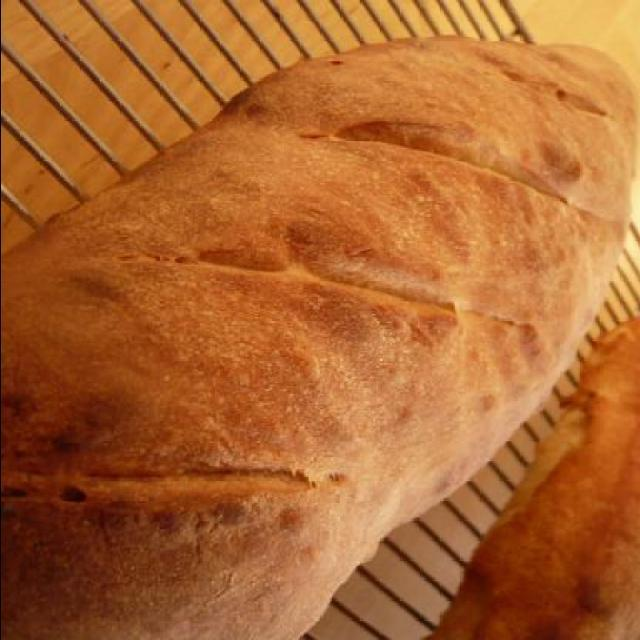Bread: (2, 33, 640, 638), (426, 317, 640, 640)
